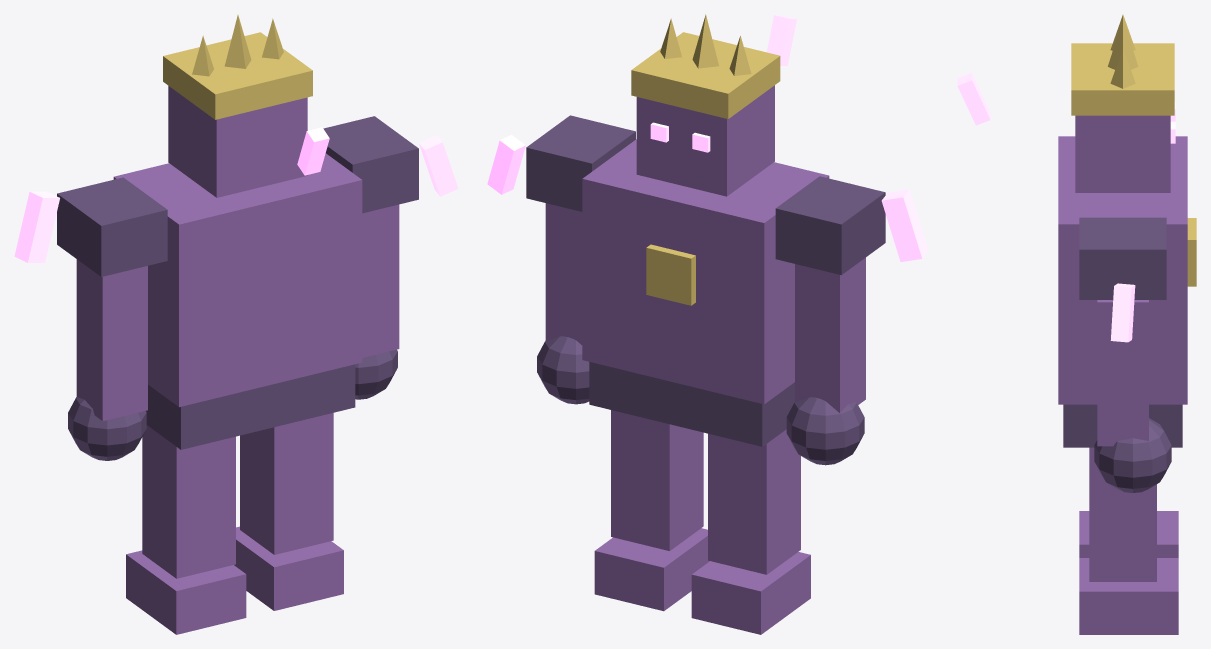
File: boss_fractured_guardian.glb
3 renders of one model, left to right at view 1: azimuth 30°, elevation 25°; view 2: azimuth 150°, elevation 25°; view 3: azimuth 270°, elevation 25°, orthographic.
Visible parts, largest first — view 1: boss_fractured_guardian_05, boss_fractured_guardian_02, boss_fractured_guardian_03, boss_fractured_guardian_13, boss_fractured_guardian_09, boss_fractured_guardian_04, boss_fractured_guardian_07, boss_fractured_guardian_16, boss_fractured_guardian_00, boss_fractured_guardian_08, boss_fractured_guardian_01, boss_fractured_guardian_10 (+6 smaller); view 2: boss_fractured_guardian_05, boss_fractured_guardian_02, boss_fractured_guardian_03, boss_fractured_guardian_13, boss_fractured_guardian_09, boss_fractured_guardian_04, boss_fractured_guardian_07, boss_fractured_guardian_16, boss_fractured_guardian_00, boss_fractured_guardian_01, boss_fractured_guardian_08, boss_fractured_guardian_10 (+7 smaller); view 3: boss_fractured_guardian_05, boss_fractured_guardian_13, boss_fractured_guardian_08, boss_fractured_guardian_03, boss_fractured_guardian_16, boss_fractured_guardian_10, boss_fractured_guardian_01, boss_fractured_guardian_12, boss_fractured_guardian_04, boss_fractured_guardian_00, boss_fractured_guardian_21, boss_fractured_guardian_22 (+3 smaller).
Boxes of the visible parts, x1,y1,x2,y2 form: boss_fractured_guardian_05: [113, 153, 362, 407]; boss_fractured_guardian_02: [142, 425, 235, 578]; boss_fractured_guardian_03: [240, 413, 333, 554]; boss_fractured_guardian_13: [168, 86, 307, 197]; boss_fractured_guardian_09: [76, 259, 147, 420]; boss_fractured_guardian_04: [146, 364, 355, 449]; boss_fractured_guardian_07: [57, 177, 167, 276]; boss_fractured_guardian_16: [163, 32, 312, 119]; boss_fractured_guardian_00: [126, 550, 246, 634]; boss_fractured_guardian_08: [323, 116, 418, 213]; boss_fractured_guardian_01: [234, 526, 343, 610]; boss_fractured_guardian_10: [362, 204, 399, 357]; boss_fractured_guardian_05: [582, 139, 829, 404]; boss_fractured_guardian_02: [708, 429, 800, 574]; boss_fractured_guardian_03: [611, 410, 703, 550]; boss_fractured_guardian_13: [636, 85, 774, 196]; boss_fractured_guardian_09: [795, 257, 865, 413]; boss_fractured_guardian_04: [589, 362, 794, 446]; boss_fractured_guardian_07: [775, 176, 885, 275]; boss_fractured_guardian_16: [631, 32, 780, 118]; boss_fractured_guardian_00: [691, 552, 810, 634]; boss_fractured_guardian_01: [594, 528, 709, 611]; boss_fractured_guardian_08: [526, 115, 635, 211]; boss_fractured_guardian_10: [545, 203, 582, 344]; boss_fractured_guardian_05: [1058, 136, 1187, 404]; boss_fractured_guardian_13: [1075, 115, 1170, 192]; boss_fractured_guardian_08: [1079, 217, 1166, 299]; boss_fractured_guardian_03: [1089, 447, 1156, 581]; boss_fractured_guardian_16: [1071, 43, 1174, 115]; boss_fractured_guardian_10: [1097, 300, 1148, 446]; boss_fractured_guardian_01: [1079, 558, 1178, 634]; boss_fractured_guardian_12: [1094, 418, 1171, 492]; boss_fractured_guardian_04: [1063, 404, 1182, 447]; boss_fractured_guardian_00: [1079, 511, 1178, 557]; boss_fractured_guardian_21: [1110, 283, 1135, 342]; boss_fractured_guardian_22: [957, 73, 990, 125].
Bounding box in the file's own units: 2.51 × 3.2 × 1.2.
